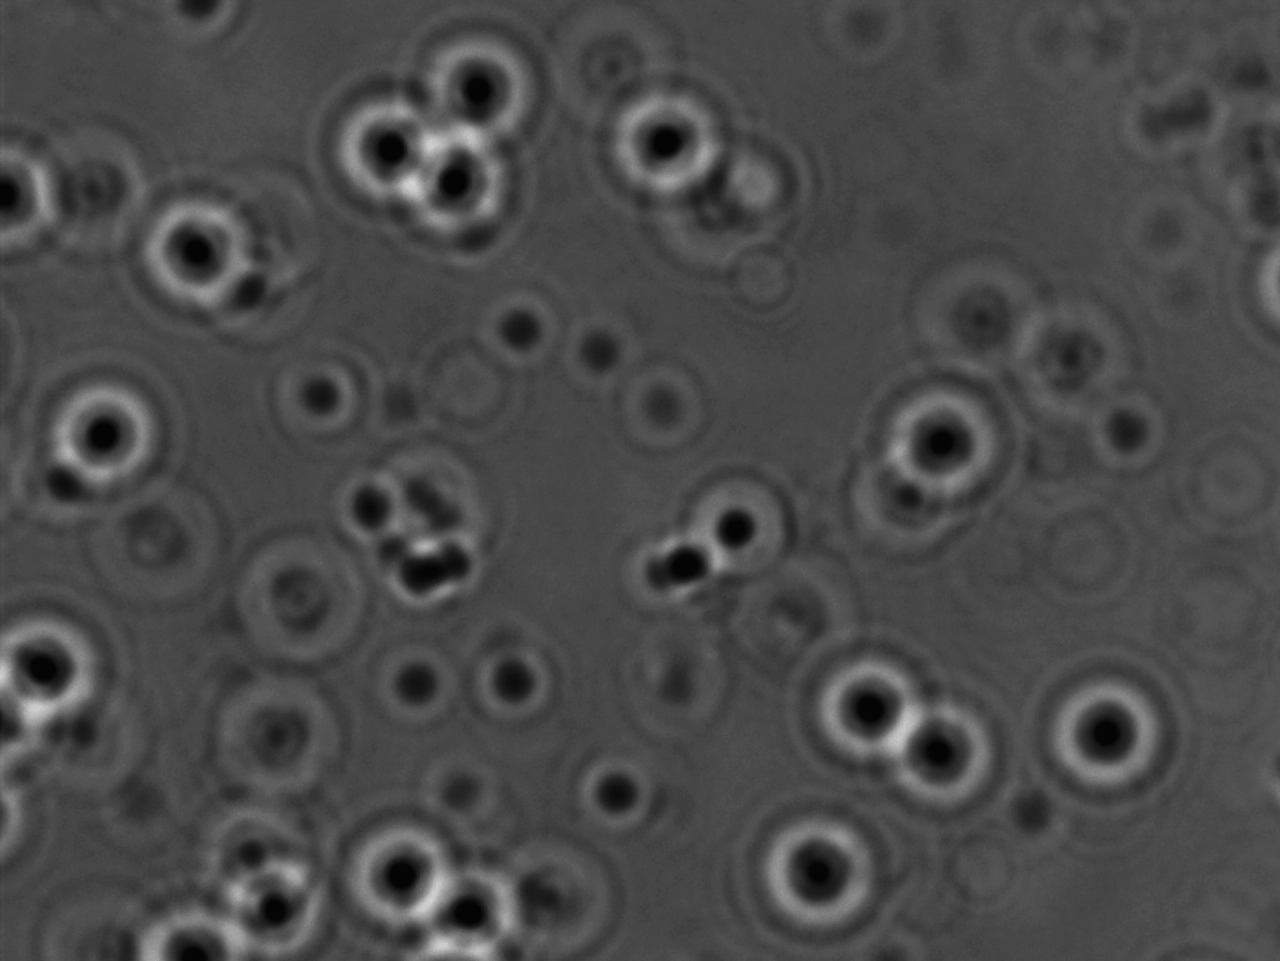depth:-24: (1025, 638, 1180, 796), (306, 66, 456, 224), (791, 630, 948, 781), (742, 806, 885, 952), (586, 75, 730, 216), (871, 369, 1010, 512), (39, 368, 187, 498), (331, 800, 473, 933), (127, 181, 252, 325), (890, 693, 1018, 827), (413, 22, 545, 146), (680, 472, 817, 592)
